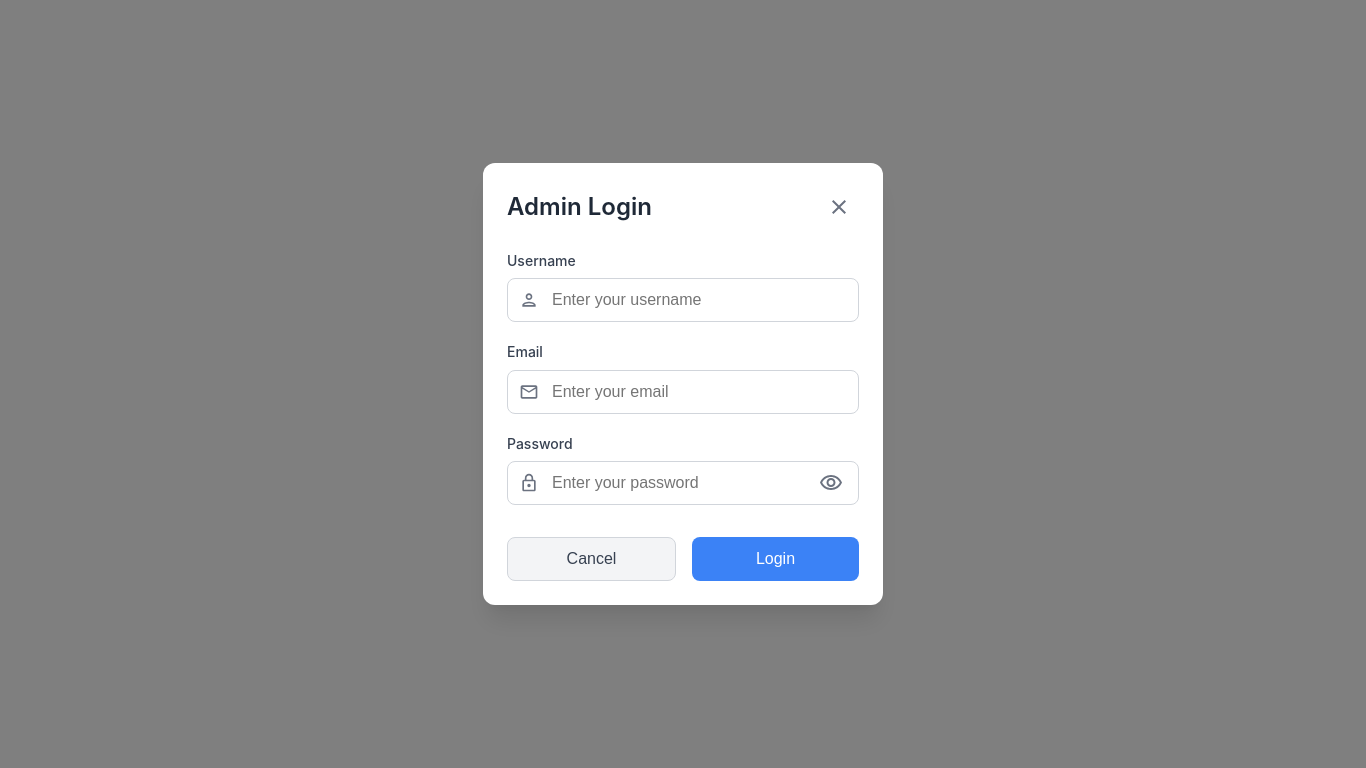
Scenario: LoginModal › updates form fields and toggles password visibility
The width and height of the screenshot is (1366, 768).
Type "alice" into the field with placeholder "Enter your username".
click(683, 300); type("alice")  # box [507,278,859,322]
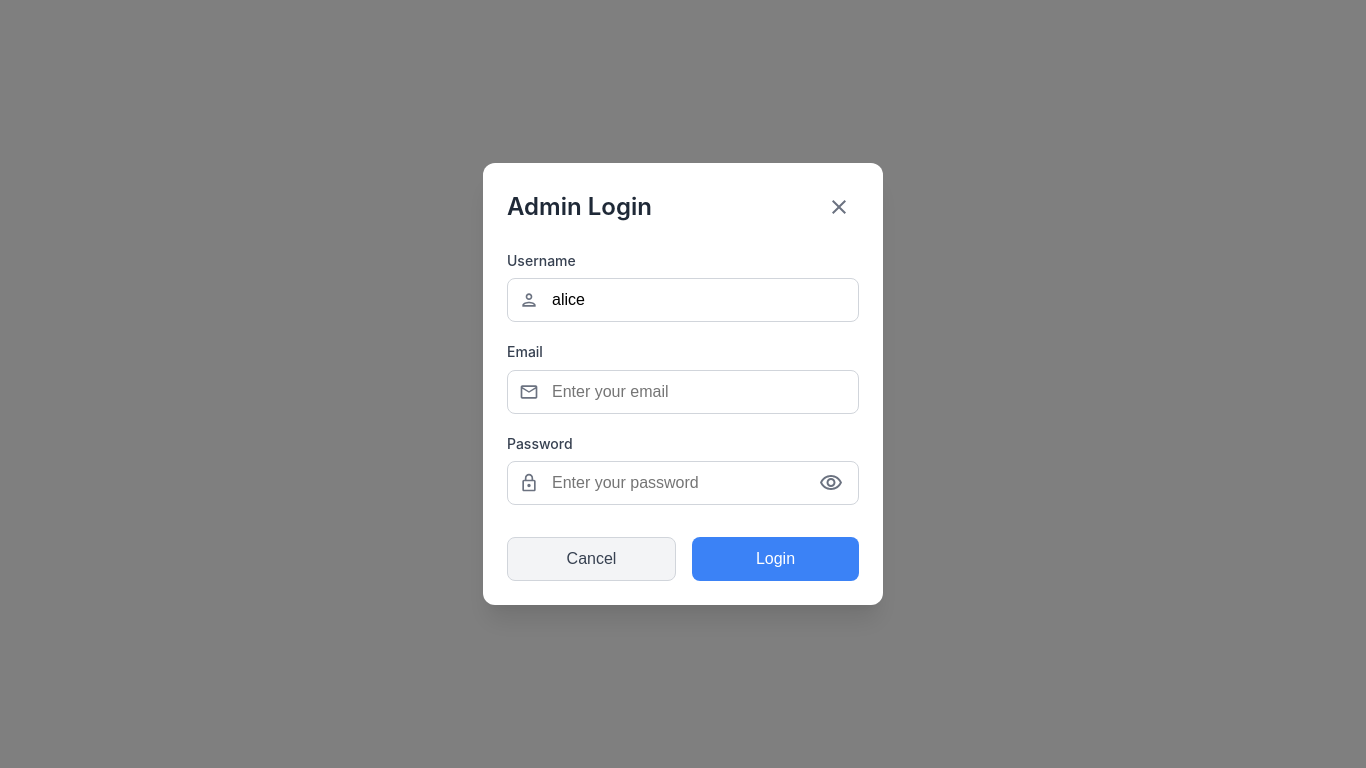
Type "alice@example.com" into the field with placeholder "Enter your email".
click(683, 392); type("alice@example.com")  # box [507,370,859,414]
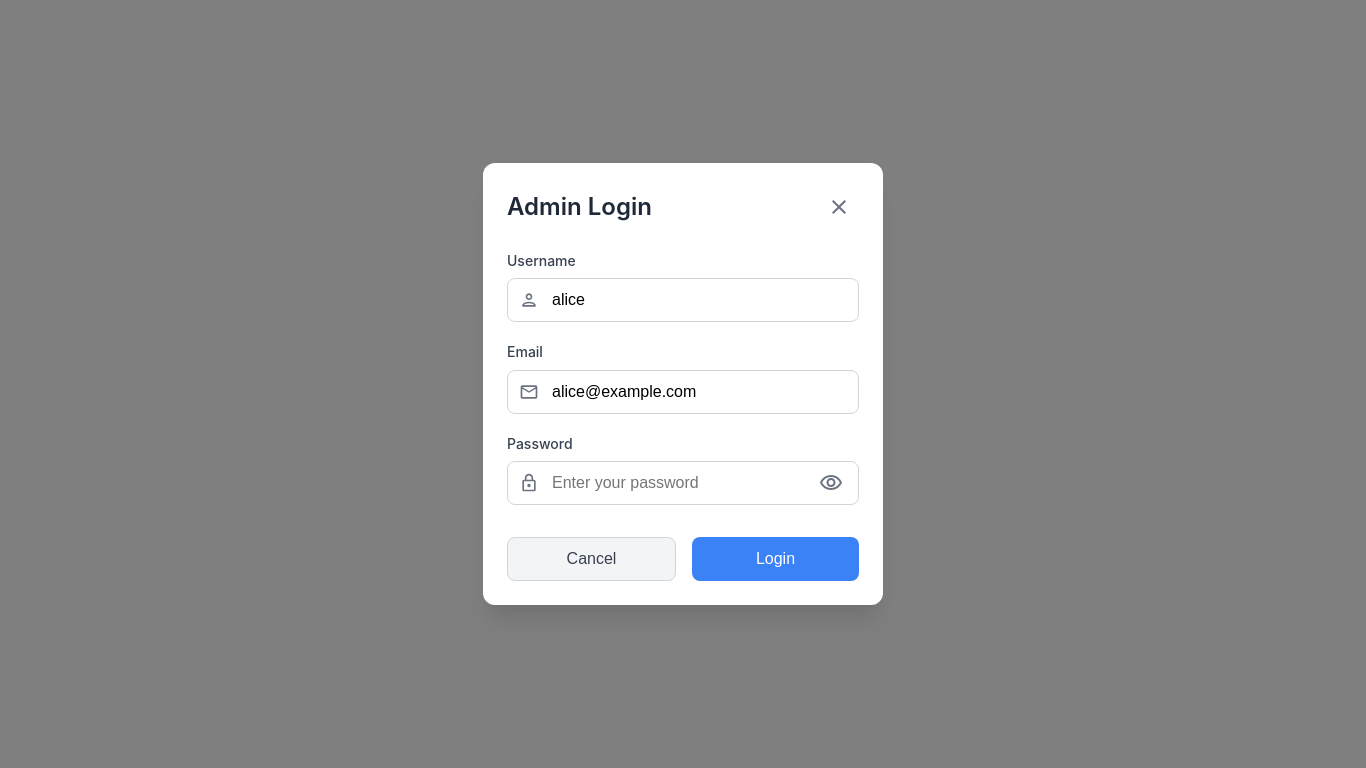
Type "secret" into the password field with placeholder "Enter your password".
click(683, 483); type("secret")  # box [507,461,859,505]
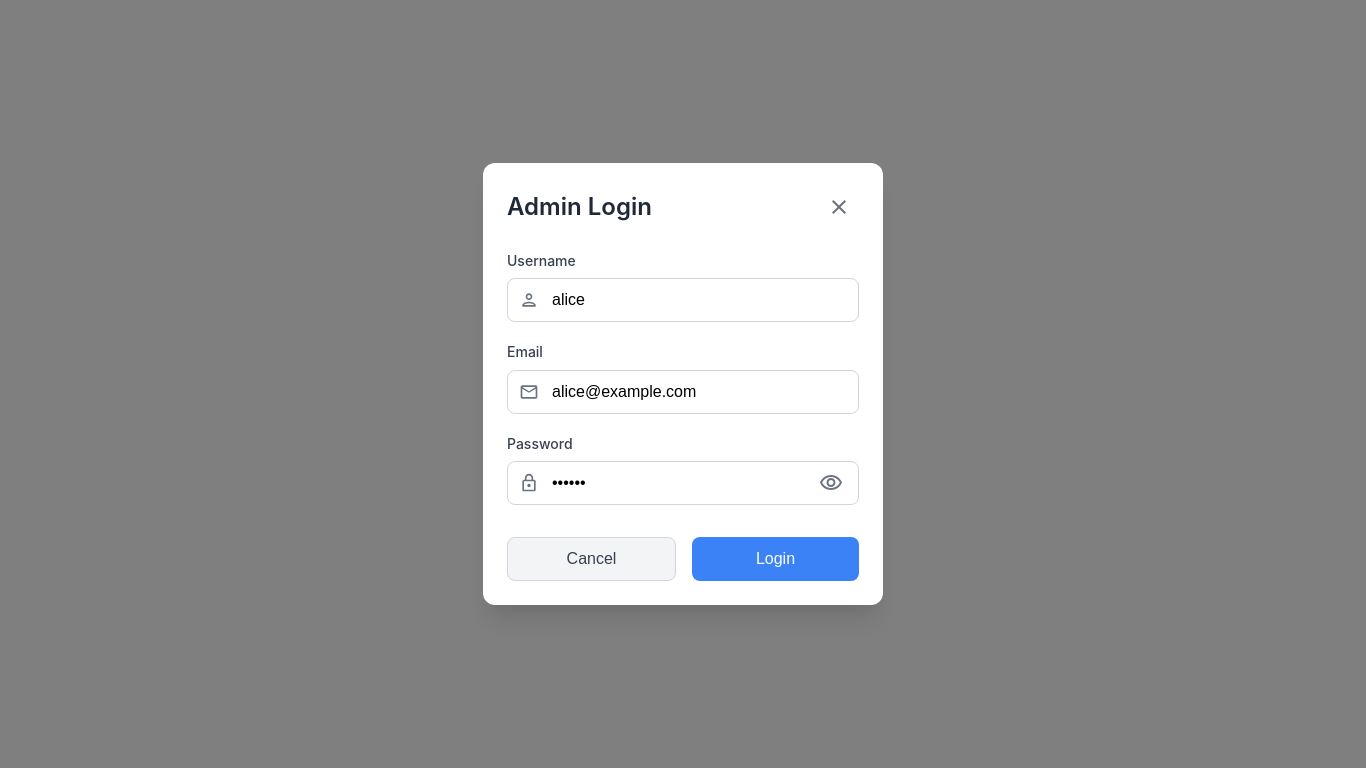
Note: Toggle password visibility (query by class since icon button has no label)
Click the button without text below "Password".
click(831, 483)  # box [815,467,847,499]
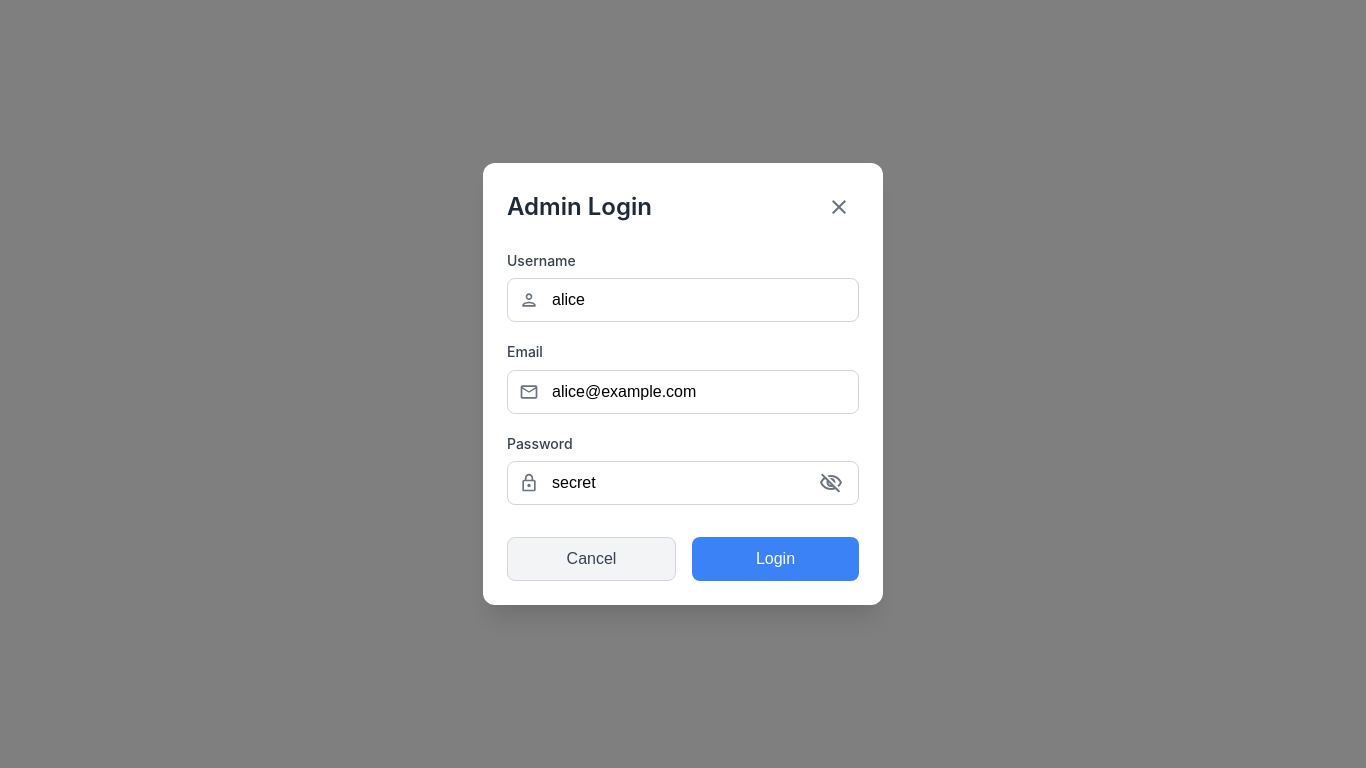
Now the field with placeholder "Enter your password" shows its text, box [507,461,859,505]
